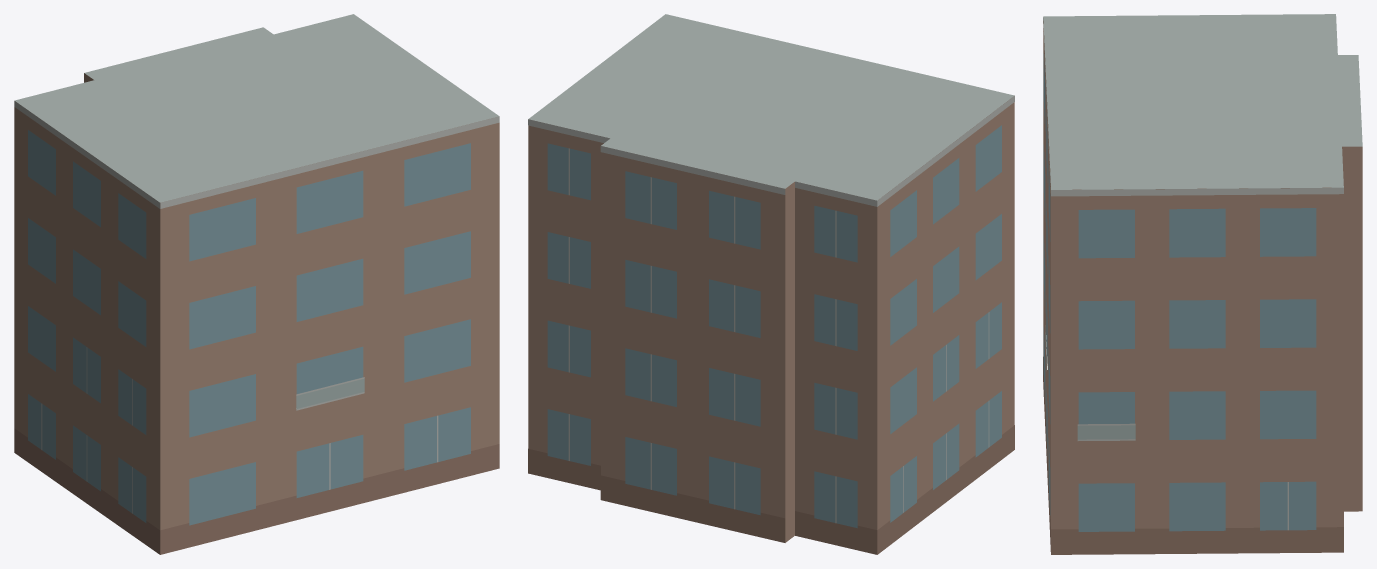
Rendered from survey-upis-32614914.glb.
3 renders of one model, left to right at view 1: azimuth 30°, elevation 25°; view 2: azimuth 150°, elevation 25°; view 3: azimuth 270°, elevation 25°, orthographic. The views are drawn at different scales.
Parts seen in each view (by area): view 1: survey-upis-32614914.tmp; view 2: survey-upis-32614914.tmp; view 3: survey-upis-32614914.tmp.
Part boxes in pixels (x1,y1,x2,y2): survey-upis-32614914.tmp: (14,14,499,554); survey-upis-32614914.tmp: (528,14,1014,554); survey-upis-32614914.tmp: (1043,14,1362,554).
Bounding box in the file's own units: 14.19 × 13.69 × 10.88.
